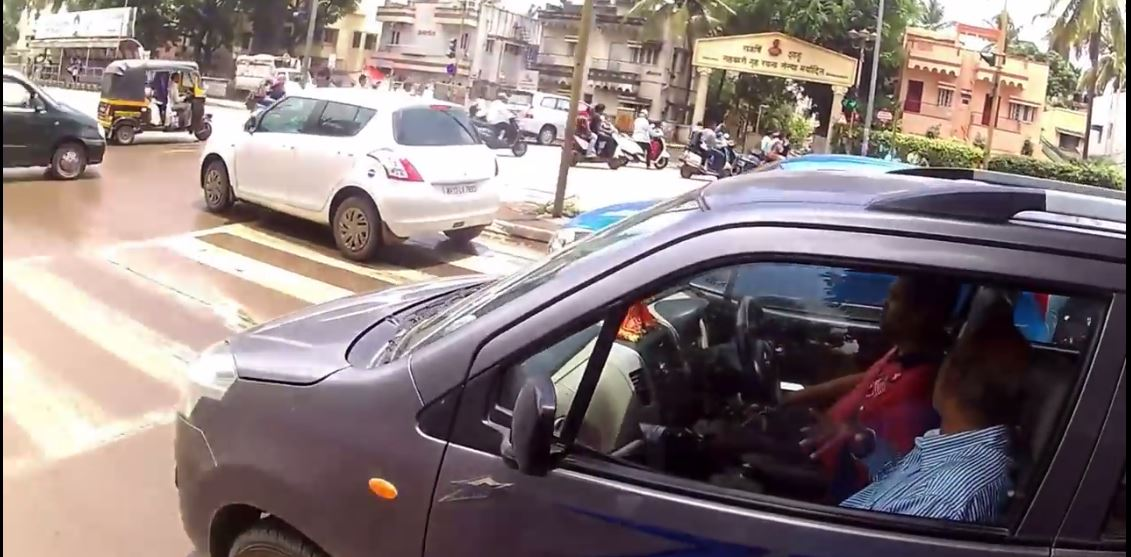autorickshaw: (97, 51, 221, 155)
car: (157, 143, 1131, 553), (201, 77, 511, 267), (2, 63, 102, 207)
